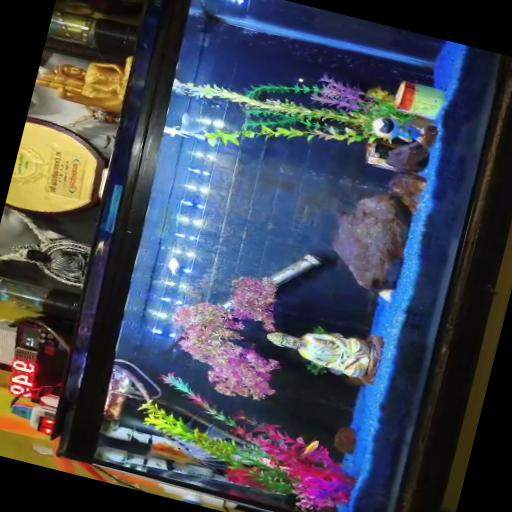Fish: (175, 437, 223, 471), (150, 442, 201, 465), (302, 441, 320, 456), (168, 257, 180, 275)
